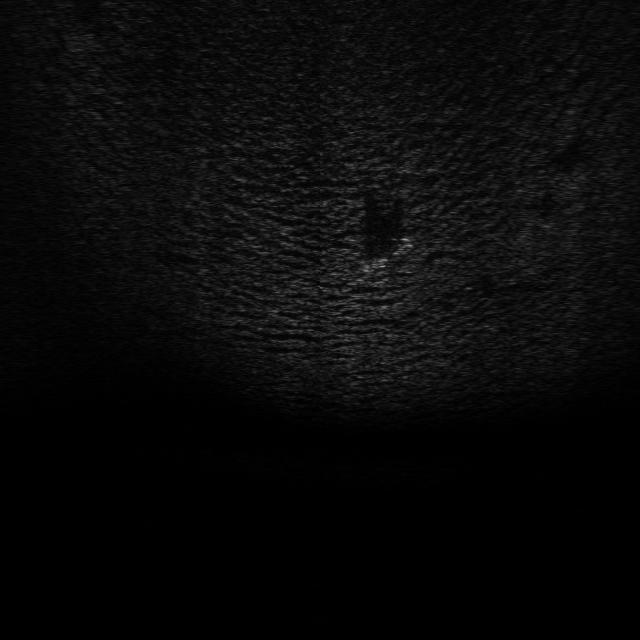plane: (352, 233, 414, 281)
